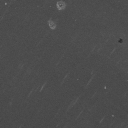corrosion: (47, 18, 58, 30), (55, 1, 68, 11), (117, 37, 123, 44)
